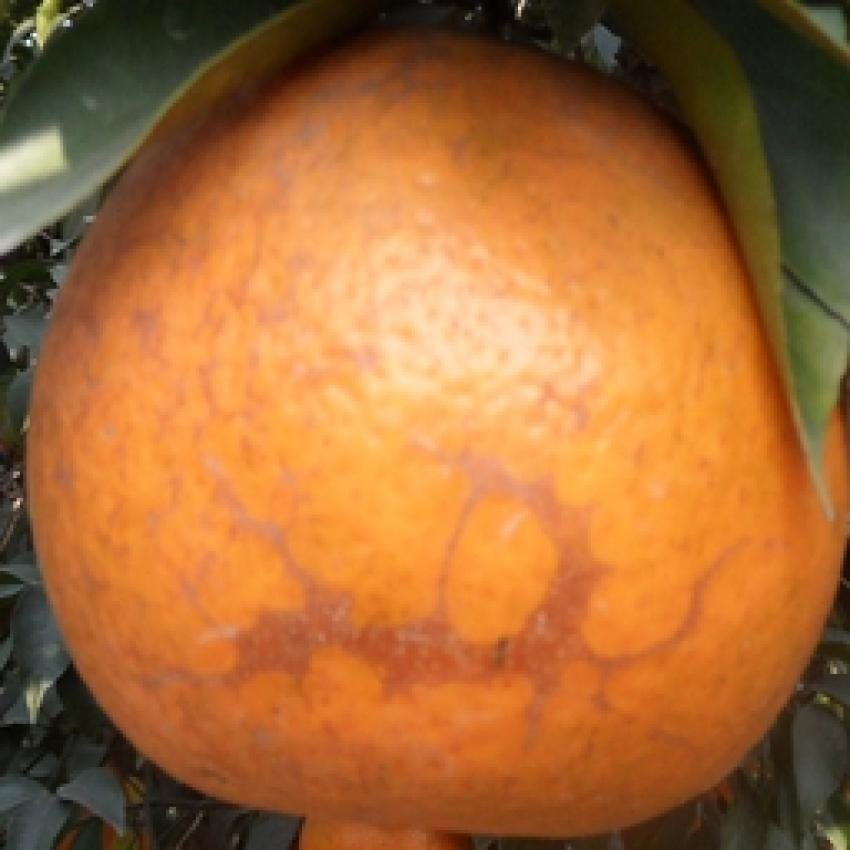Mal estado: (32, 0, 835, 834)
